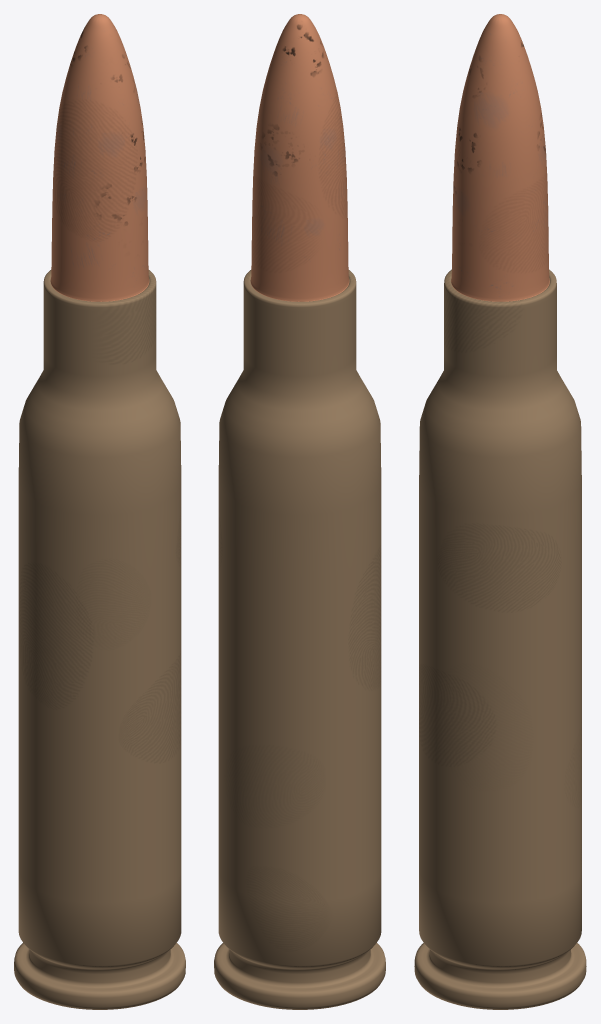
File: cartridge_bullet.glb
The picture shows the model from 3 angles, left to right: view 1: azimuth 30°, elevation 25°; view 2: azimuth 150°, elevation 25°; view 3: azimuth 270°, elevation 25°; orthographic projection.
Parts seen in each view (by area): view 1: Pocisk 1; view 2: Pocisk 1; view 3: Pocisk 1.
Boxes of the visible parts, x1,y1,x2,y2 form: Pocisk 1: [14, 14, 185, 1009]; Pocisk 1: [214, 14, 385, 1009]; Pocisk 1: [414, 14, 586, 1009].
Bounding box in the file's own units: 0.0727 × 0.4482 × 0.0727.
3 materials, 3 textured.
